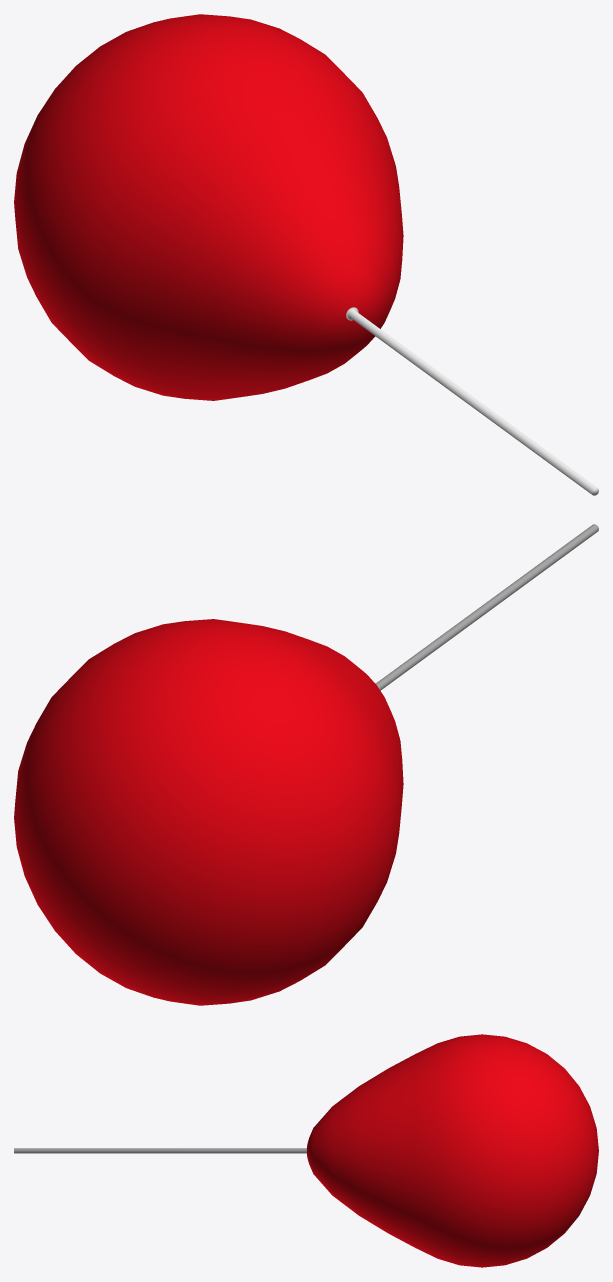
Rendered from Ballon1.fbx.
The picture shows the model from 3 angles, top to bottom: view 1: azimuth 30°, elevation 25°; view 2: azimuth 150°, elevation 25°; view 3: azimuth 270°, elevation 25°; orthographic projection. The views are drawn at different scales.
Parts seen in each view (by area): view 1: Sphere; view 2: Sphere; view 3: Sphere.
Boxes of the visible parts, <box> form: Sphere: <box>14,14,598,495</box>; Sphere: <box>14,524,598,1005</box>; Sphere: <box>14,1034,598,1267</box>.
Bounding box in the file's own units: 193 × 193 × 483.
